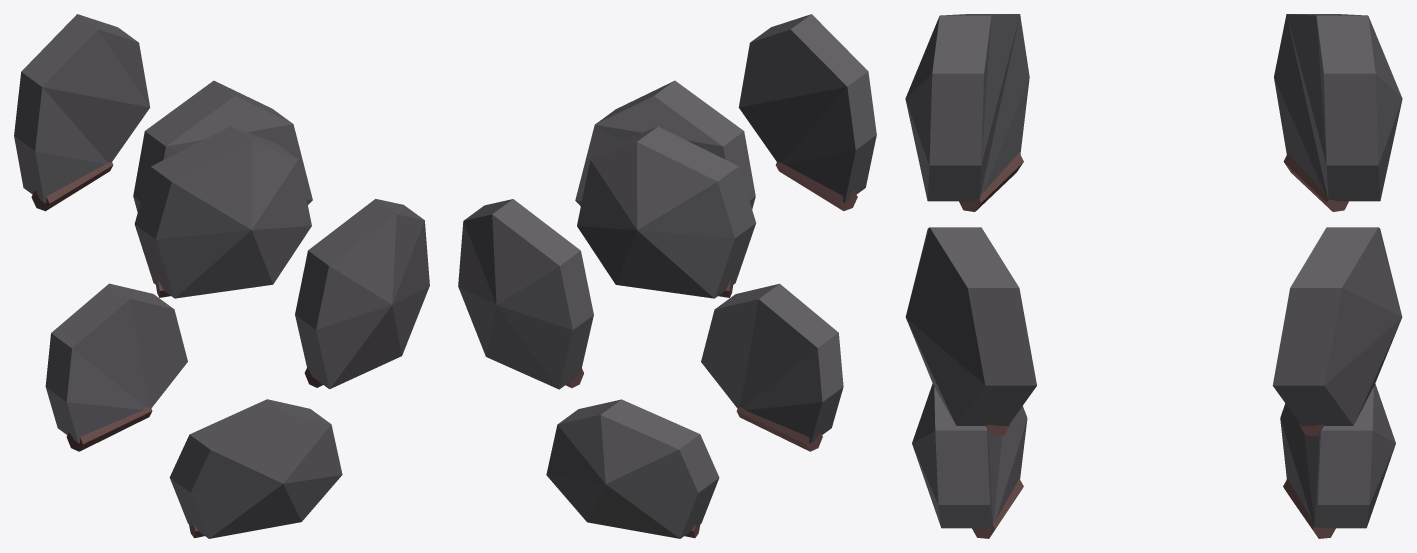
Rendered from implants_male_plating.obj.
3 views of the same model, side by side, from view 1: azimuth 30°, elevation 25°; view 2: azimuth 150°, elevation 25°; view 3: azimuth 270°, elevation 25° (orthographic). The views are drawn at different scales.
Visible parts, largest first — view 1: implants_male_plating; view 2: implants_male_plating; view 3: implants_male_plating.
Part boxes in pixels (bbox=[...]): implants_male_plating: bbox=[14, 14, 429, 538]; implants_male_plating: bbox=[458, 14, 876, 538]; implants_male_plating: bbox=[905, 14, 1402, 538].
Size of the model in its own units: 0.3188 by 0.4474 by 0.4031.
